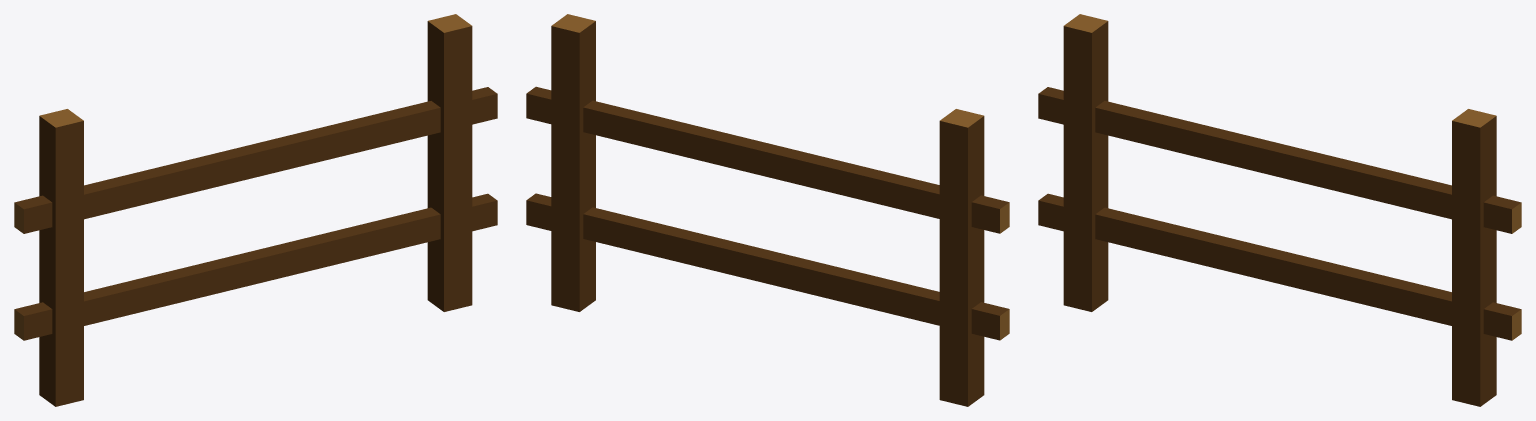
File: FarmFence_02.fbx
3 views of the same model, side by side, from view 1: azimuth 30°, elevation 25°; view 2: azimuth 150°, elevation 25°; view 3: azimuth 330°, elevation 25° (orthographic).
Visible parts, largest first — view 1: FarmFence_02; view 2: FarmFence_02; view 3: FarmFence_02.
Boxes of the visible parts, x1,y1,x2,y2 form: FarmFence_02: (14,14,497,406); FarmFence_02: (526,14,1009,406); FarmFence_02: (1038,14,1521,406).
Size of the model in its own units: 0.3333 by 0.1878 by 0.02.
